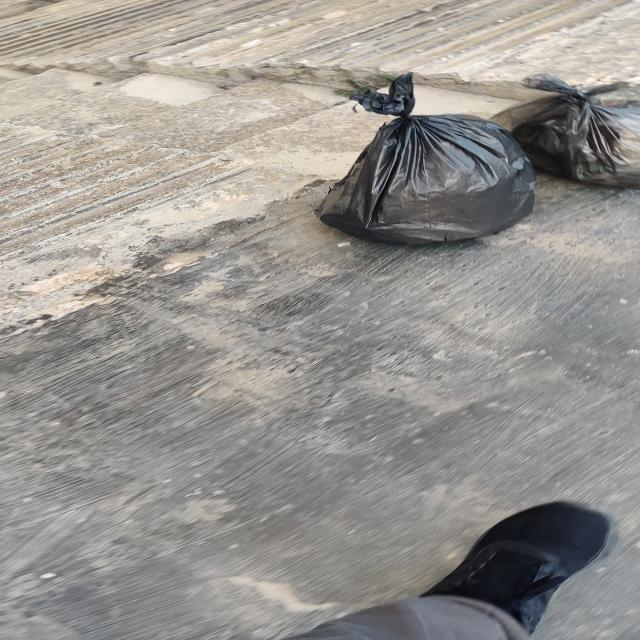Mixed Waste -Black Bags-: (314, 70, 640, 246)
